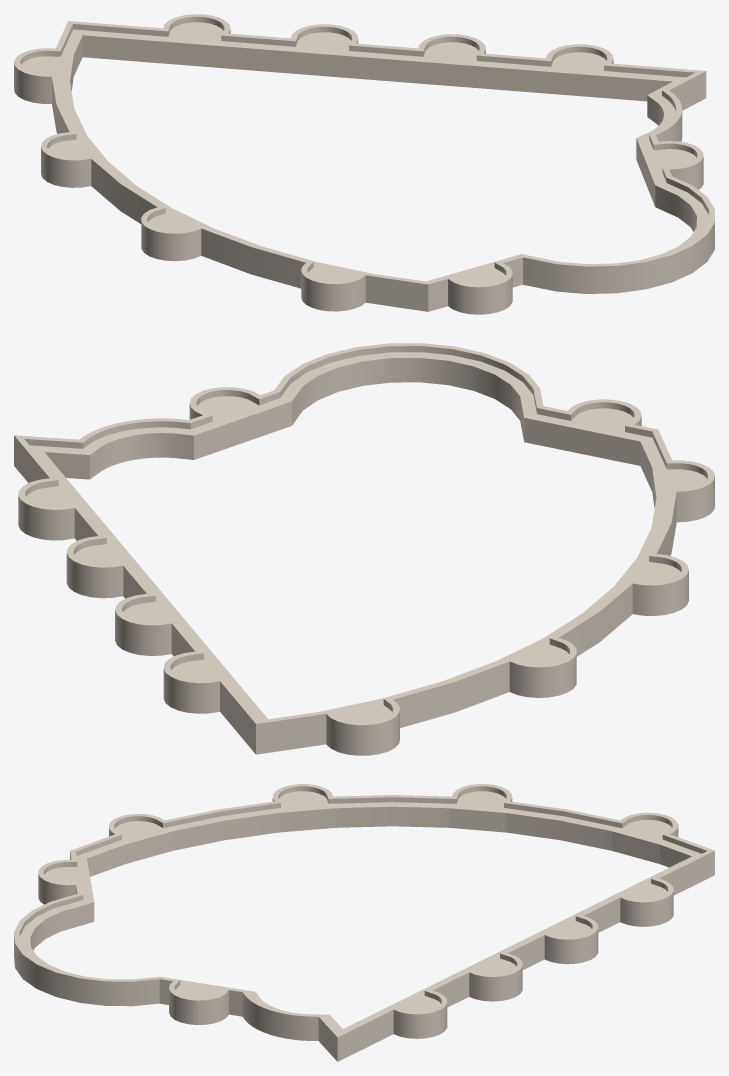
File: ASWAR MOSUL.glb
The picture shows the model from 3 angles, top to bottom: view 1: azimuth 30°, elevation 25°; view 2: azimuth 150°, elevation 25°; view 3: azimuth 270°, elevation 25°; orthographic projection. The views are drawn at different scales.
Parts seen in each view (by area): view 1: Geom3D_; view 2: Geom3D_; view 3: Geom3D_.
Boxes of the visible parts, x1,y1,x2,y2 form: Geom3D_: (14,14,714,314); Geom3D_: (14,343,714,755); Geom3D_: (14,784,714,1061).
Bounding box in the file's own units: 5.54 × 0.25 × 6.48.
